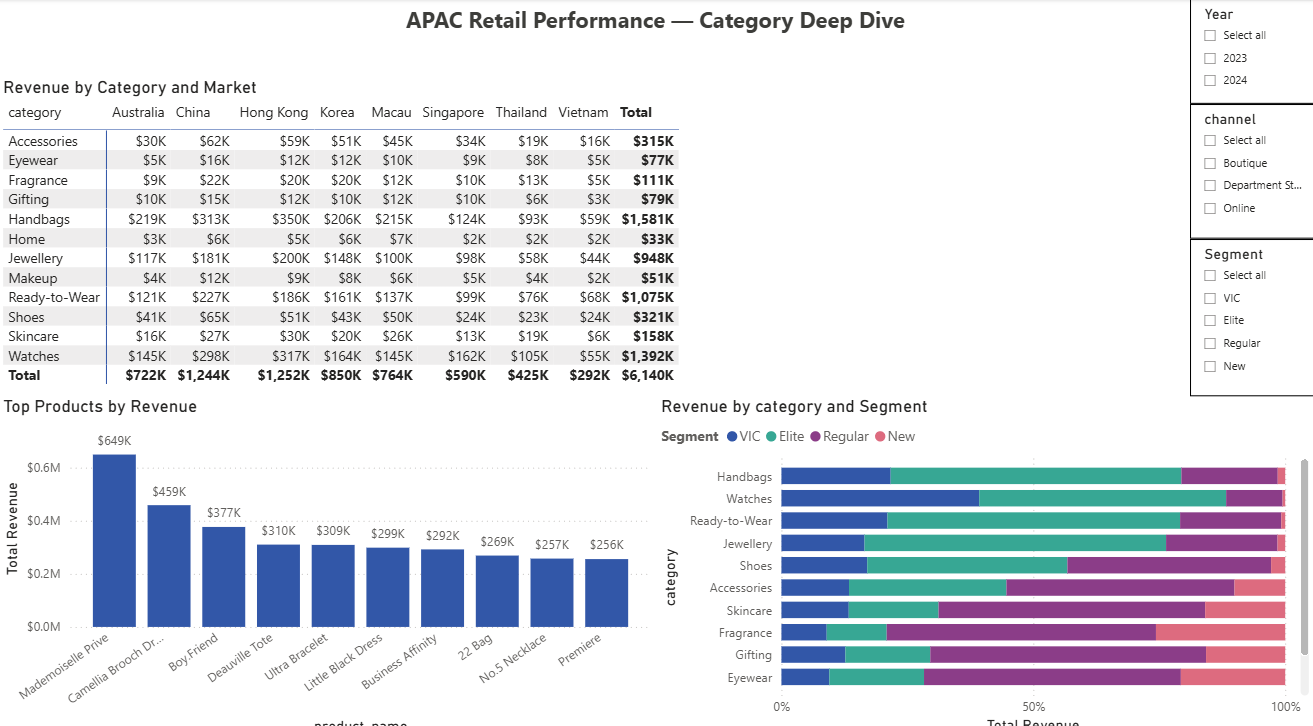

This screenshot's page, from the dashboard's own definition file:
{"tool":"powerbi","page":{"name":"Category Deep Dive","canvas":[1280,720],"ordinal":1},"visuals":[{"type":"pivotTable","title":"Revenue by Category and Market","fields":{"Rows":["retail_transactions.category"],"Columns":["retail_transactions.market"],"Values":["retail_transactions.Total Revenue"]},"box":[0,75.9,675,310.3],"z":0},{"type":"clusteredColumnChart","title":" Top Products by Revenue","fields":{"Category":["retail_transactions.product_name"],"Y":["retail_transactions.Total Revenue"]},"box":[0,386.1,640,333.6],"z":1000},{"type":"hundredPercentStackedBarChart","title":"Revenue by category and Segment","fields":{"Y":["retail_transactions.Total Revenue"],"Category":["retail_transactions.category"],"Series":["Segment Order.Segment"]},"box":[640,386.1,640,333.6],"z":2000},{"type":"slicer","fields":{"Values":["Date.Year"]},"box":[1159.4,0,120.6,102.1],"z":3000},{"type":"slicer","fields":{"Values":["retail_transactions.channel"]},"box":[1159.4,102.1,120.6,131.3],"z":4000},{"type":"textbox","box":[353.1,0,572.9,45.7],"z":5000},{"type":"slicer","fields":{"Values":["Segment Order.Segment"]},"box":[1159.4,233.4,120.6,152.7],"z":5001}]}

Visuals, with their boxes in screenshot pixels (x1, y1, x2, y2), scaled from the page's 1280x720 canvas onto the 1313x726 screenshot:
"Revenue by Category and Market" pivotTable: 0,77,692,389
" Top Products by Revenue" clusteredColumnChart: 0,389,656,725
"Revenue by category and Segment" hundredPercentStackedBarChart: 656,389,1312,725
slicer - Date.Year: 1189,0,1312,103
slicer - retail_transactions.channel: 1189,103,1312,235
textbox: 362,0,950,46
slicer - Segment Order.Segment: 1189,235,1312,389
